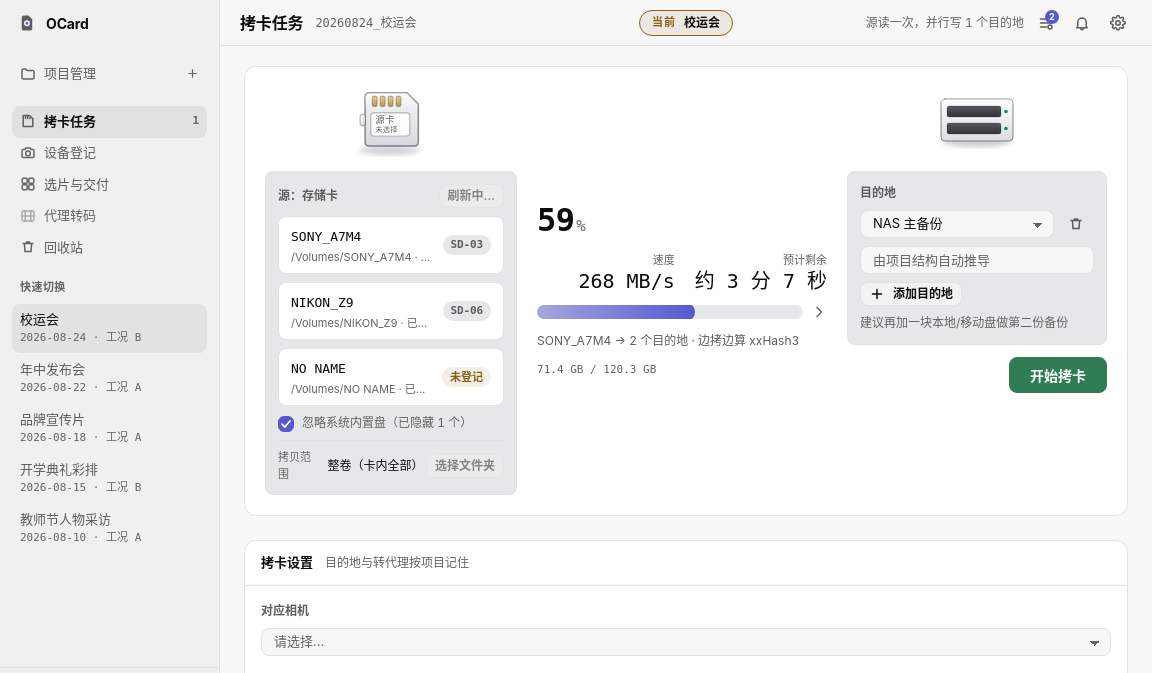
Test case: 任务中心 › 面板聚合所有项目的进行中任务,并有最近完成历史
The image size is (1152, 673).
Click the button with test id "task-center-toggle" at (1046, 22), box [1032,8,1060,36]
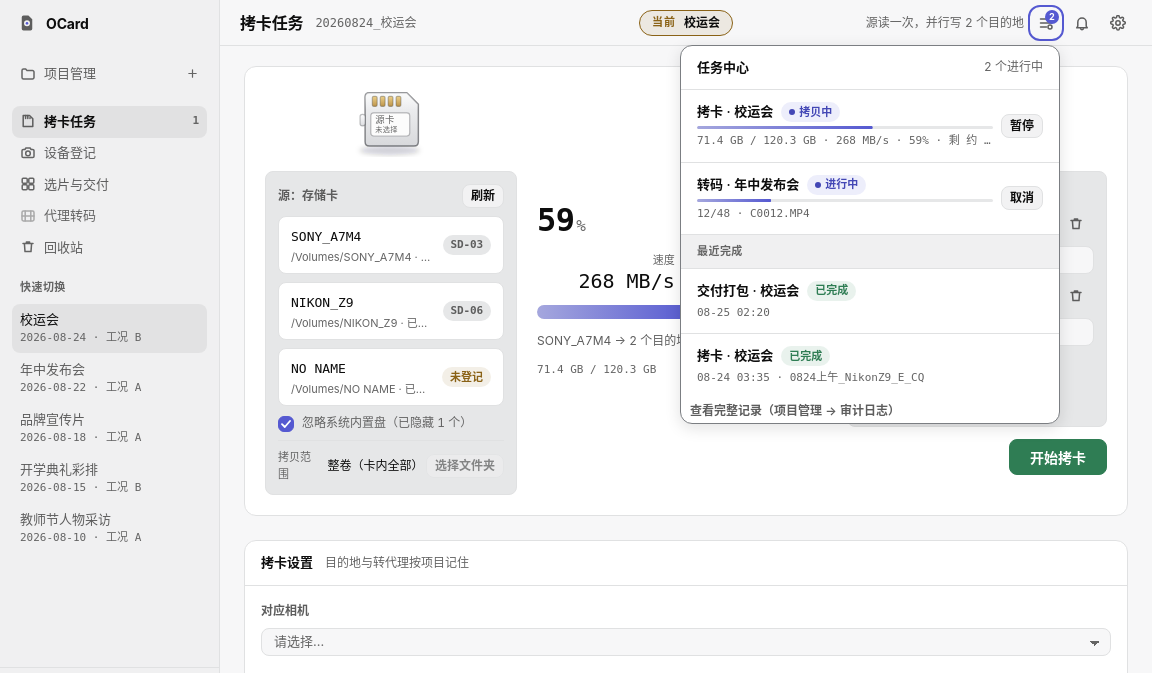
Check: the element with test id "task-center-panel" shows "转码 · 年中发布会", box [680,44,1060,424]
Check: the element with test id "task-center-panel" shows "拷卡 · 校运会", box [697,346,1043,386]
Check: the element with test id "task-center-panel" shows "最近完成", box [697,244,743,258]
